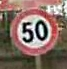limite 50: (9, 7, 58, 57)
